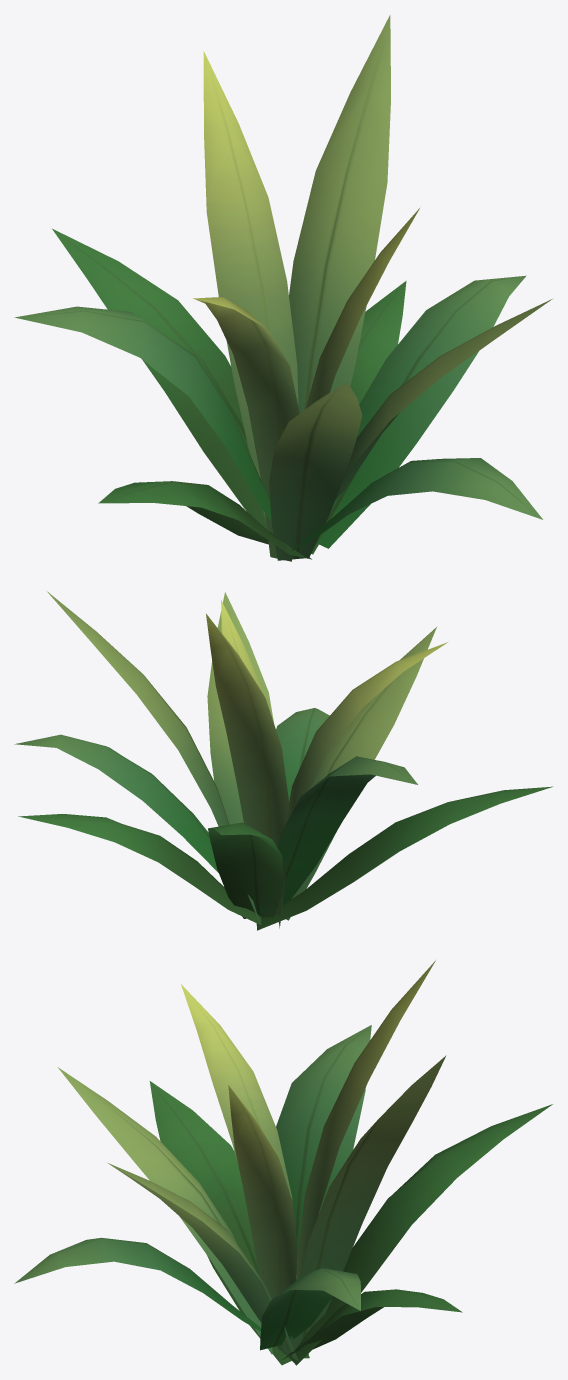
The model's file is Plant_001_Mesh_001.fbx.
The picture shows the model from 3 angles, top to bottom: view 1: azimuth 30°, elevation 25°; view 2: azimuth 150°, elevation 25°; view 3: azimuth 270°, elevation 25°; orthographic projection. The views are drawn at different scales.
Parts seen in each view (by area): view 1: Plant_001_Mesh_001; view 2: Plant_001_Mesh_001; view 3: Plant_001_Mesh_001.
Part boxes in pixels (box(x1,y1,x2,y2)): Plant_001_Mesh_001: box(14, 15, 552, 561); Plant_001_Mesh_001: box(14, 591, 552, 930); Plant_001_Mesh_001: box(14, 960, 552, 1365).
Size of the model in its own units: 393 by 308 by 379.
